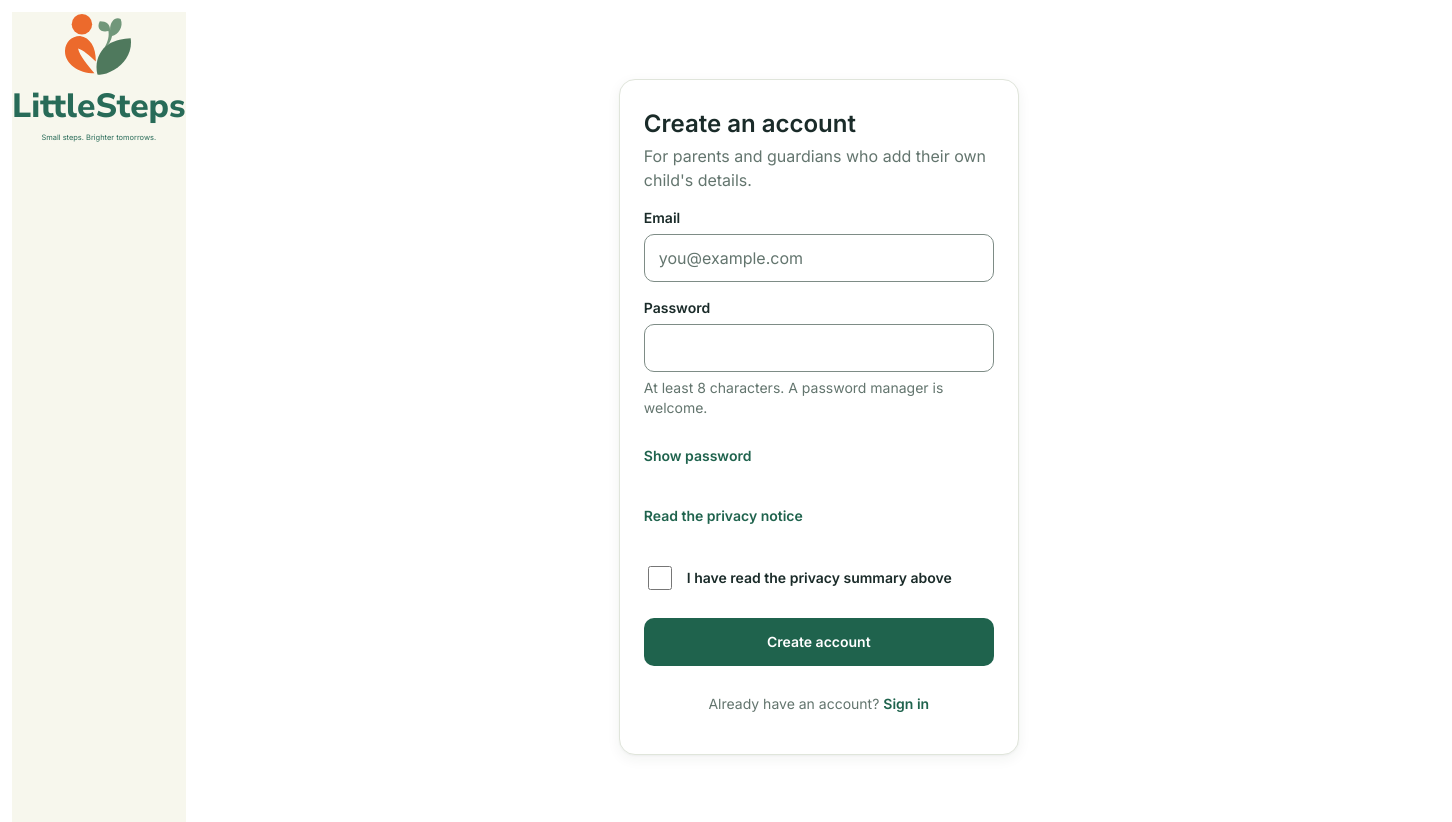
Scenario: CreateAccountForm › blocks submit until the privacy box is checked
The width and height of the screenshot is (1452, 822).
Step 1. Type "a@b.co" into the field labelled "Email" → (819, 258), box 644,234 -> 994,282
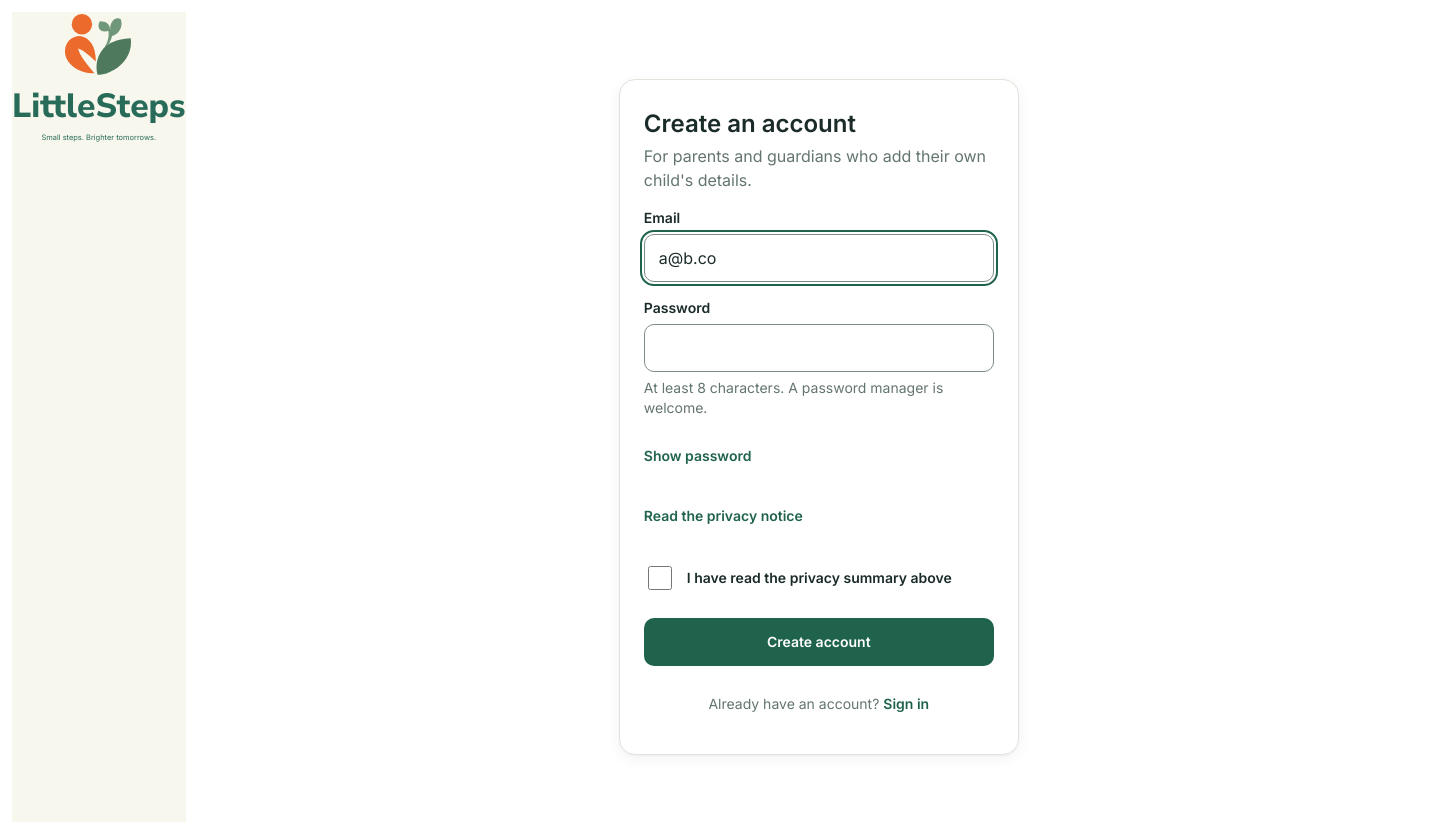
Step 2. Type "longenough1" into the password field labelled "Password" → (819, 348), box 644,324 -> 994,372
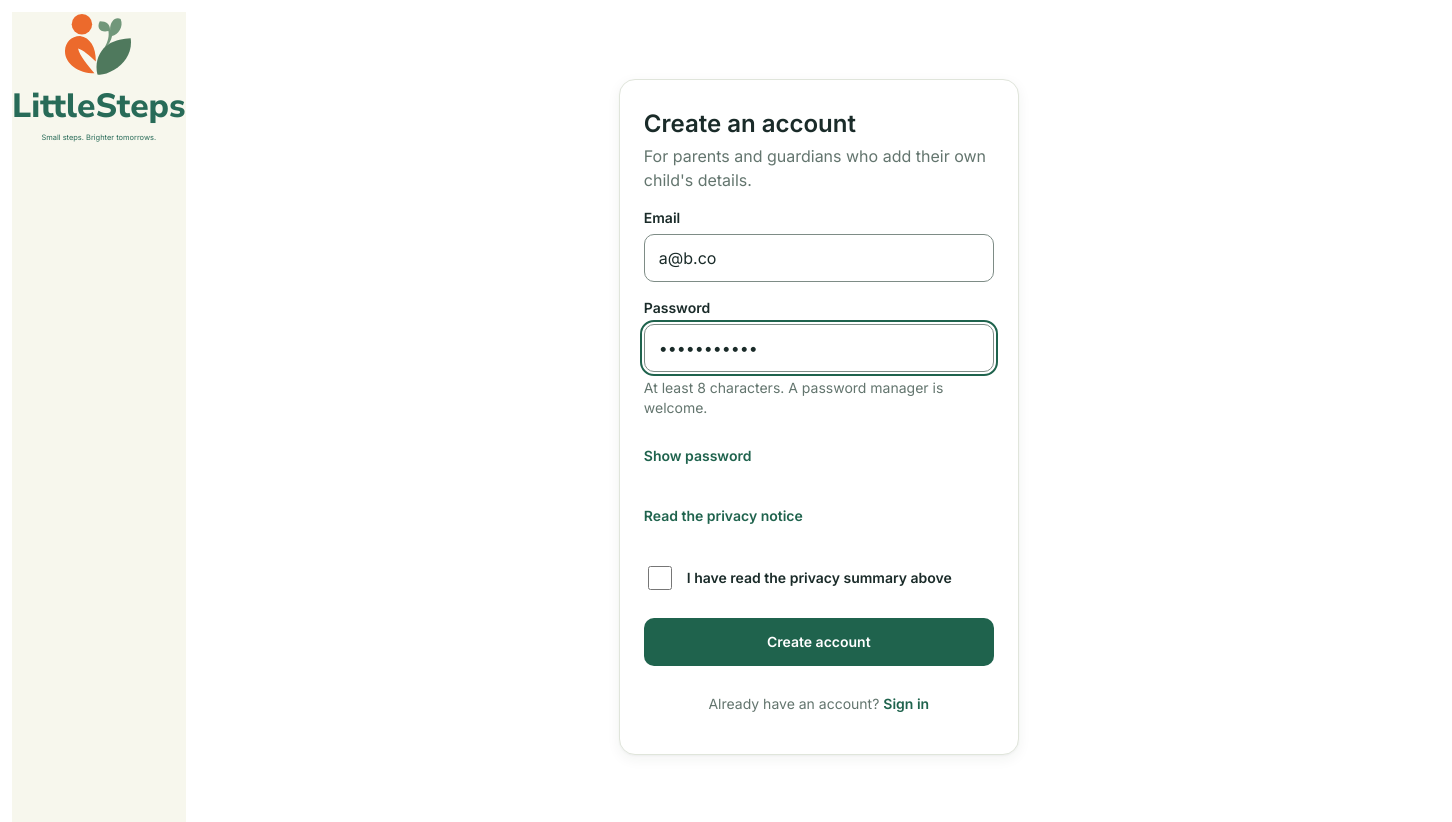
Step 3. Click the button "Create account" → (819, 642), box 644,618 -> 994,666
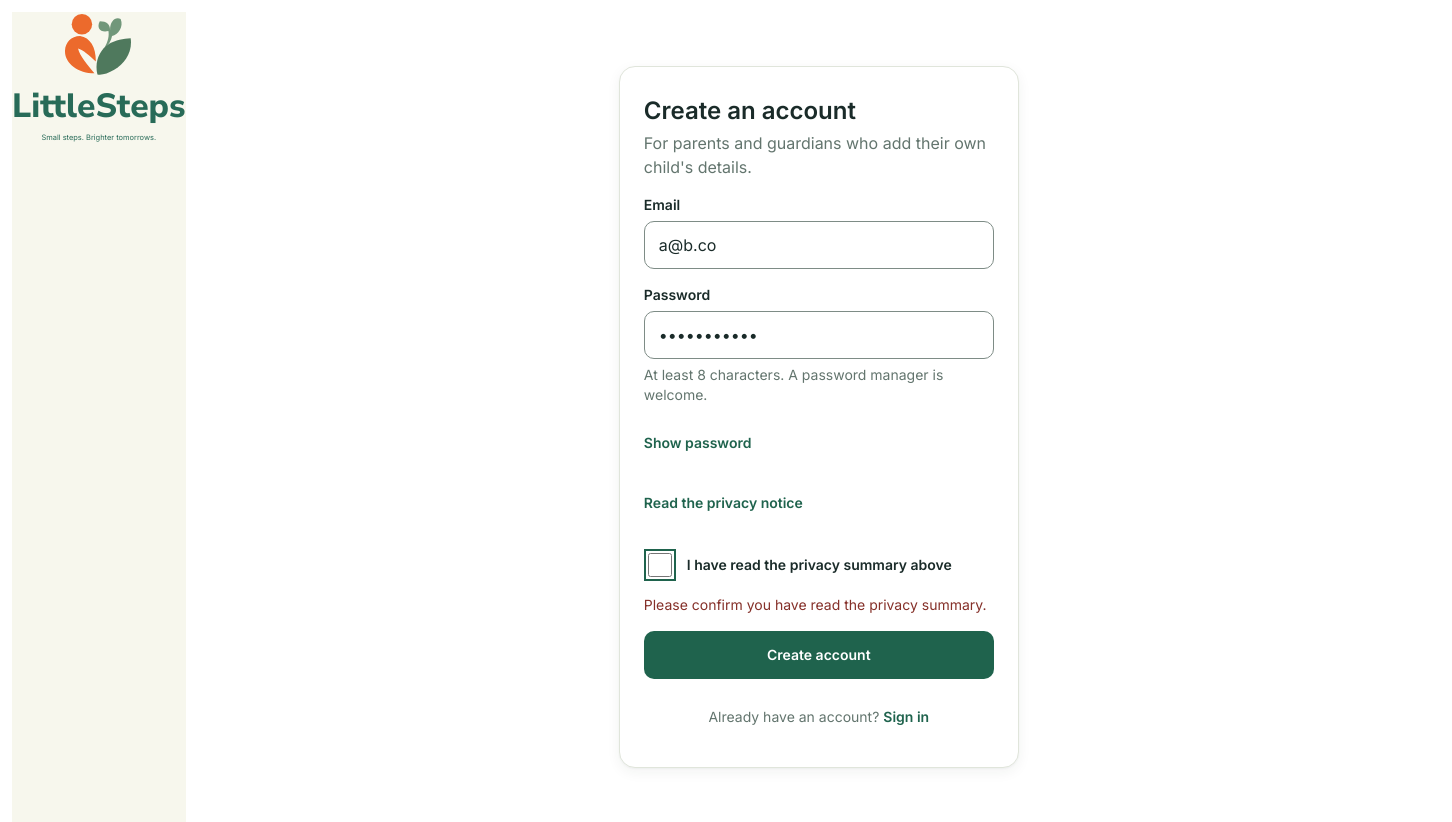
expect the text "Please confirm you have read the privacy summary." is shown: met, box 644,595 -> 994,615
